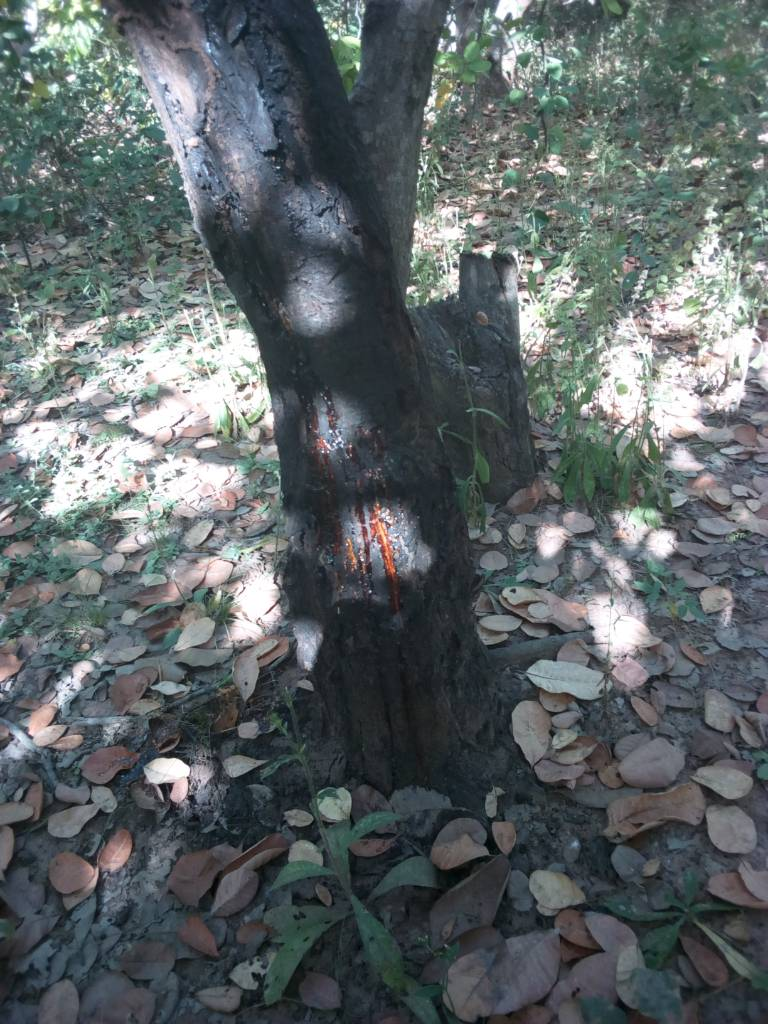Gommose: (290, 342, 454, 783), (182, 5, 368, 271)
